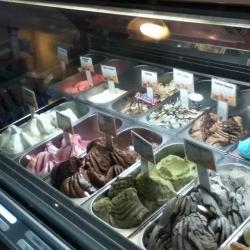icecream: (142, 164, 248, 250), (101, 145, 204, 222), (53, 135, 148, 195), (20, 116, 118, 172), (1, 95, 92, 155), (143, 75, 220, 133), (113, 73, 198, 117), (86, 63, 163, 107), (54, 59, 134, 98), (191, 101, 250, 152)
